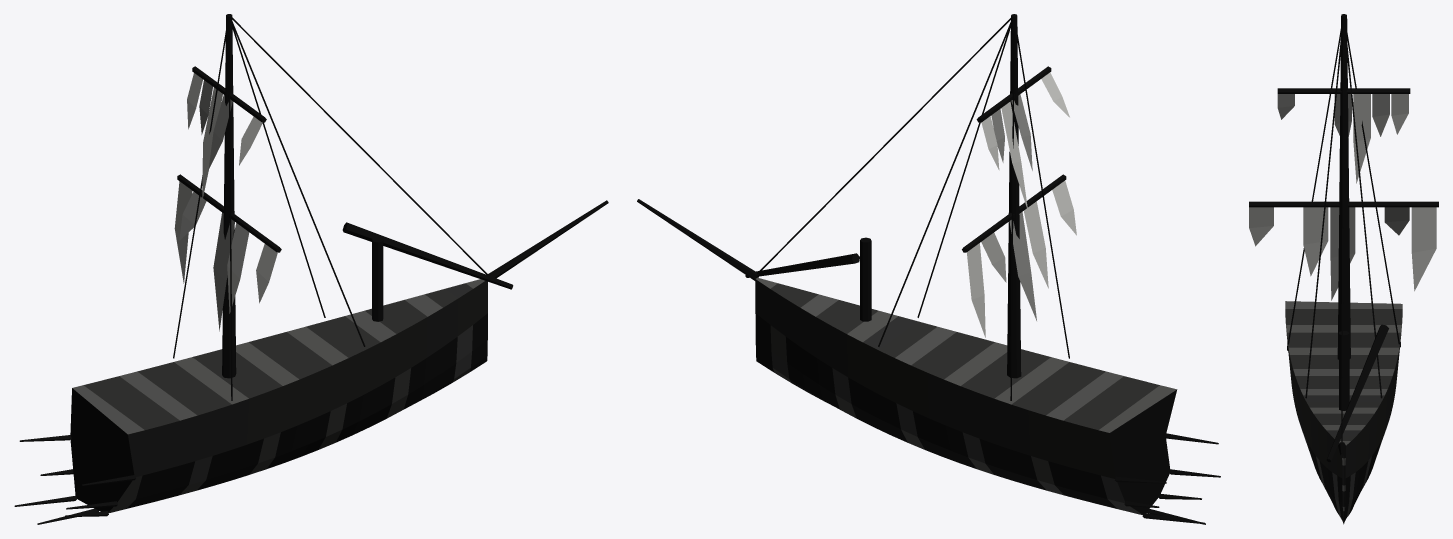
File: prop-wreck.glb
3 views of the same model, side by side, from view 1: azimuth 30°, elevation 25°; view 2: azimuth 150°, elevation 25°; view 3: azimuth 270°, elevation 25° (orthographic). The views are drawn at different scales.
Parts seen in each view (by area): view 1: wreck; view 2: wreck; view 3: wreck.
Boxes of the visible parts, <box> form: wreck: <box>14,14,608,524</box>; wreck: <box>637,14,1220,524</box>; wreck: <box>1249,14,1438,524</box>.
Bounding box in the file's own units: 50.51 × 38.76 × 15.
Materials: 1 (1 with a texture image).
